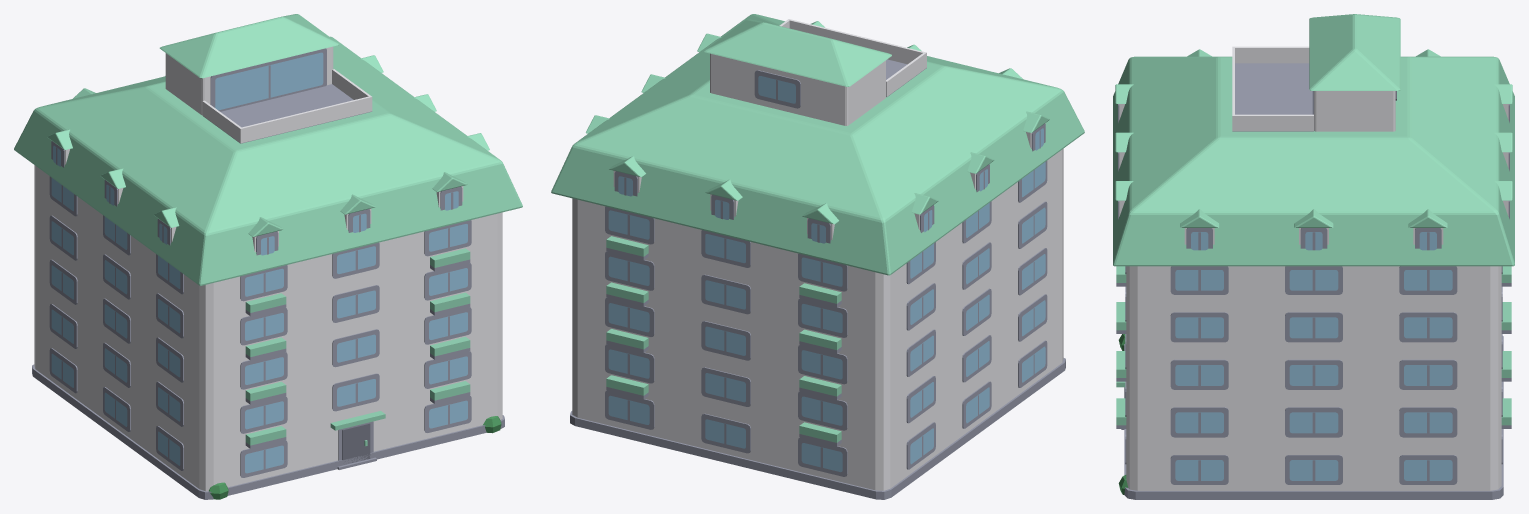
File: house-2x2-5f-tone-a.glb
3 views of the same model, side by side, from view 1: azimuth 30°, elevation 25°; view 2: azimuth 150°, elevation 25°; view 3: azimuth 270°, elevation 25° (orthographic). The views are drawn at different scales.
Parts seen in each view (by area): view 1: house-2x2-5f-tone-a; view 2: house-2x2-5f-tone-a; view 3: house-2x2-5f-tone-a.
Boxes of the visible parts, x1,y1,x2,y2 form: house-2x2-5f-tone-a: (14, 14, 522, 499); house-2x2-5f-tone-a: (551, 14, 1084, 499); house-2x2-5f-tone-a: (1113, 14, 1514, 499).
Size of the model in its own units: 1.99 by 2.12 by 1.99.
Materials: 1 (1 with a texture image).
